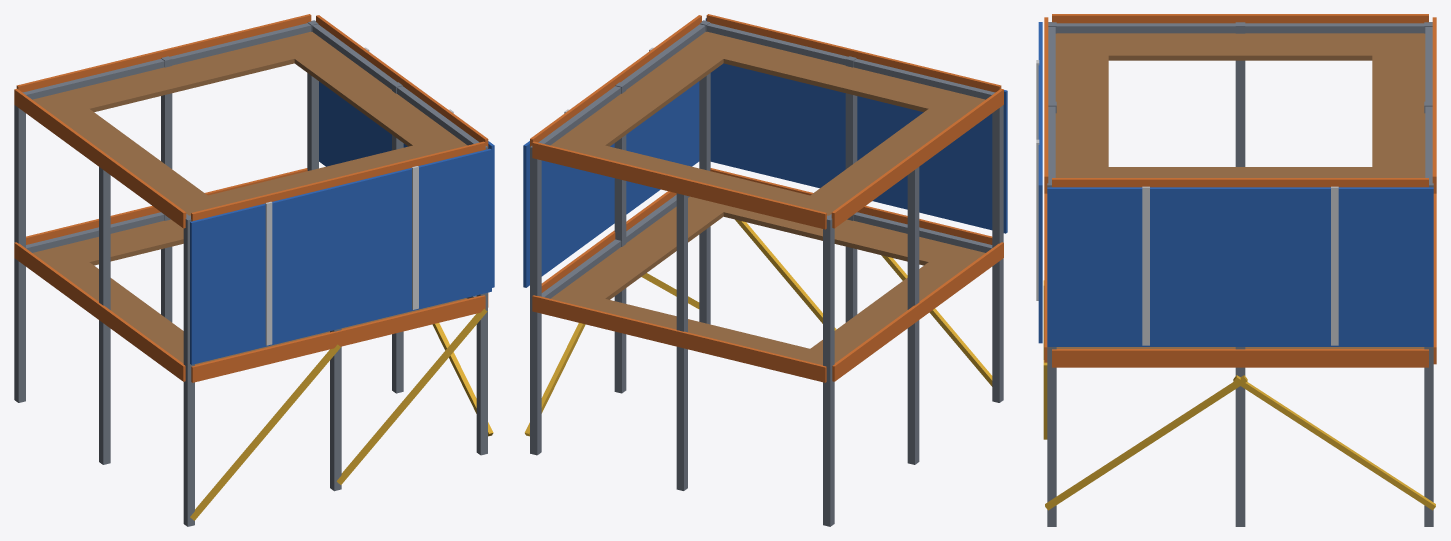
Rendered from scaffold.glb.
The picture shows the model from 3 angles, left to right: view 1: azimuth 30°, elevation 25°; view 2: azimuth 150°, elevation 25°; view 3: azimuth 270°, elevation 25°; orthographic projection. The views are drawn at different scales.
Visible parts, largest first — view 1: scaffold; view 2: scaffold; view 3: scaffold.
Part boxes in pixels (x1=…): scaffold: x1=14, y1=14, x2=494, y2=526; scaffold: x1=523, y1=14, x2=1007, y2=526; scaffold: x1=1036, y1=14, x2=1436, y2=526.
Bounding box in the file's own units: 4.25 × 4.08 × 4.25.
